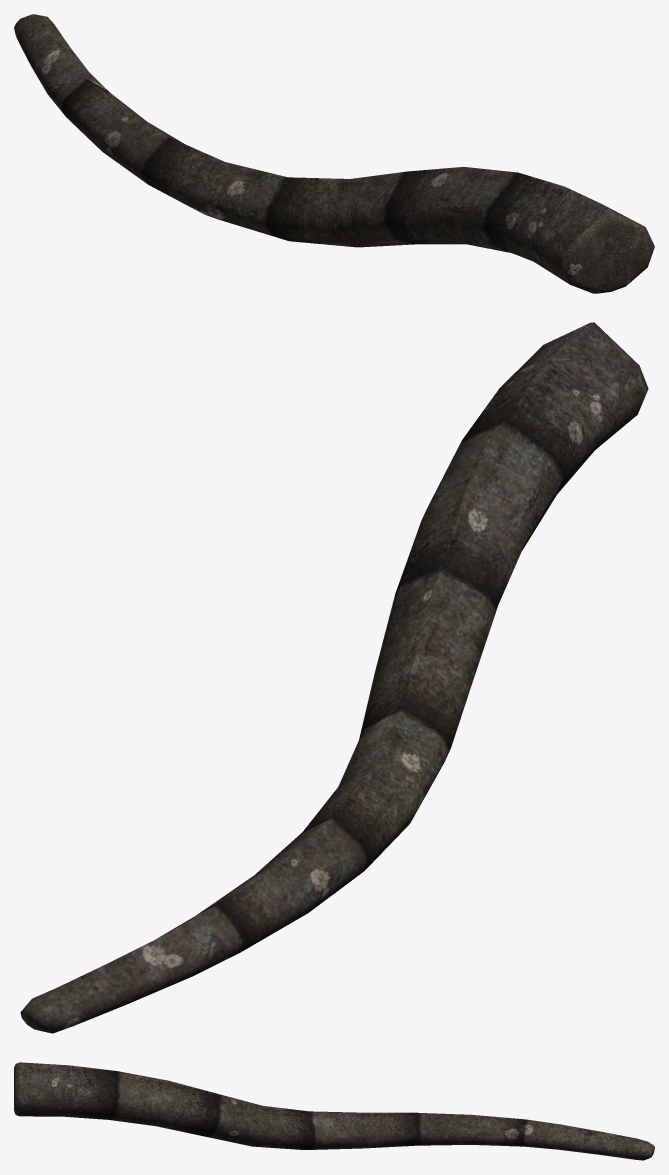
The model's file is branch_irregular01.dae.
The picture shows the model from 3 angles, top to bottom: view 1: azimuth 30°, elevation 25°; view 2: azimuth 150°, elevation 25°; view 3: azimuth 270°, elevation 25°; orthographic projection. The views are drawn at different scales.
Visible parts, largest first — view 1: tentacle_branch_irregular01; view 2: tentacle_branch_irregular01; view 3: tentacle_branch_irregular01.
Part boxes in pixels (left/top/right/bottom): tentacle_branch_irregular01: left=14, top=14, right=654, bottom=293; tentacle_branch_irregular01: left=20, top=322, right=648, bottom=1033; tentacle_branch_irregular01: left=14, top=1062, right=654, bottom=1160.
Size of the model in its own units: 0.5663 by 0.5455 by 2.72.
